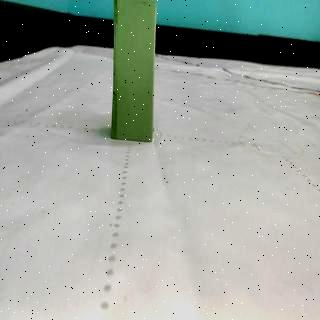greenbox: (112, 0, 154, 141)
